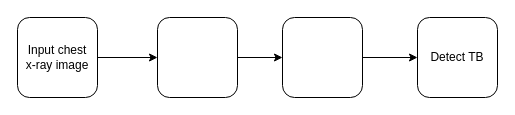
Some shapes in this 515 by 115 pixel diagram are drawn without their labels. Each missing label, with the centre of its shape:
"Convolution Neural Network" goes at pixel 322 57.
"Pre-processing of Image" goes at pixel 197 57.
